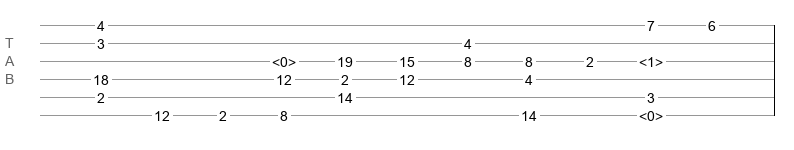12: (154, 108, 170, 118), (276, 72, 292, 82), (399, 72, 415, 82)
14: (337, 90, 353, 100), (521, 108, 537, 118)
15: (399, 54, 415, 64)
18: (93, 72, 109, 82)
19: (337, 54, 353, 64)
2: (97, 90, 105, 100), (219, 108, 227, 118), (341, 72, 349, 82), (586, 54, 594, 64)
3: (97, 36, 105, 46), (647, 90, 655, 100)
4: (97, 18, 105, 28), (464, 36, 472, 46), (525, 72, 533, 82)
6: (708, 18, 716, 28)
7: (647, 18, 655, 28)
8: (280, 108, 288, 118), (464, 54, 472, 64), (525, 54, 533, 64)
harmonic: (272, 54, 296, 64), (639, 108, 663, 118), (639, 54, 663, 64)
